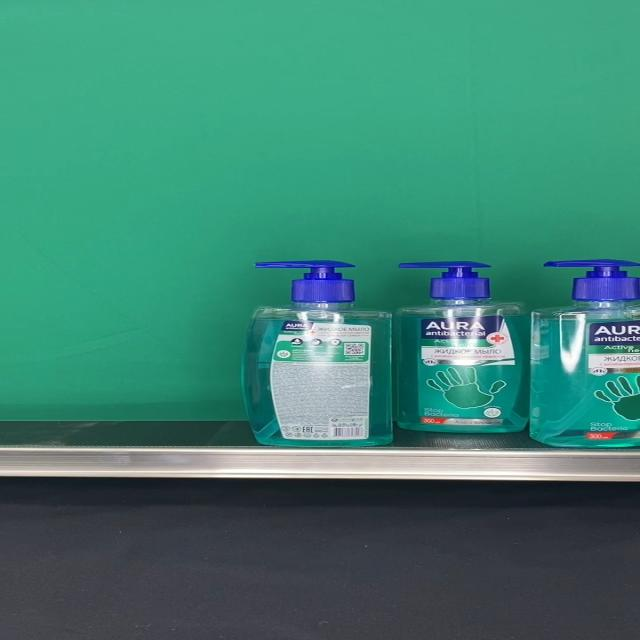Bottle: (242, 260, 392, 446), (395, 260, 531, 433), (531, 257, 640, 447)
Cap: (253, 260, 355, 304), (545, 258, 640, 300), (398, 260, 492, 300)
